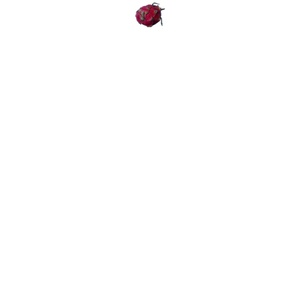pitaia: (136, 3, 163, 28)
